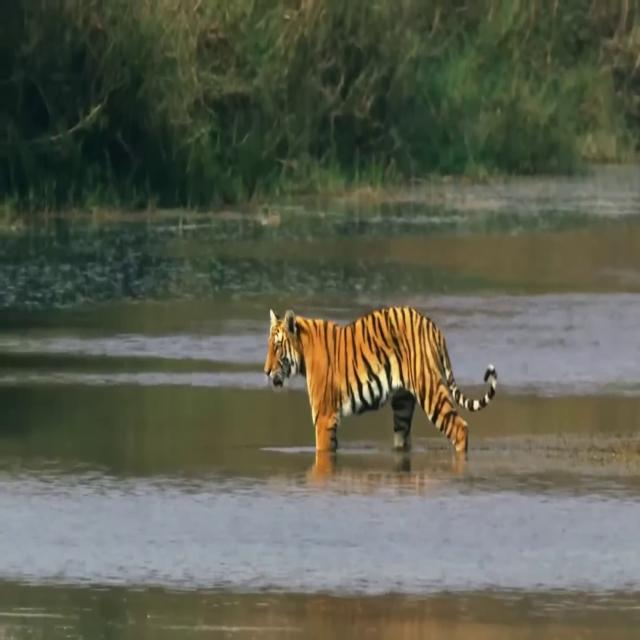tiger: (265, 306, 497, 477)
